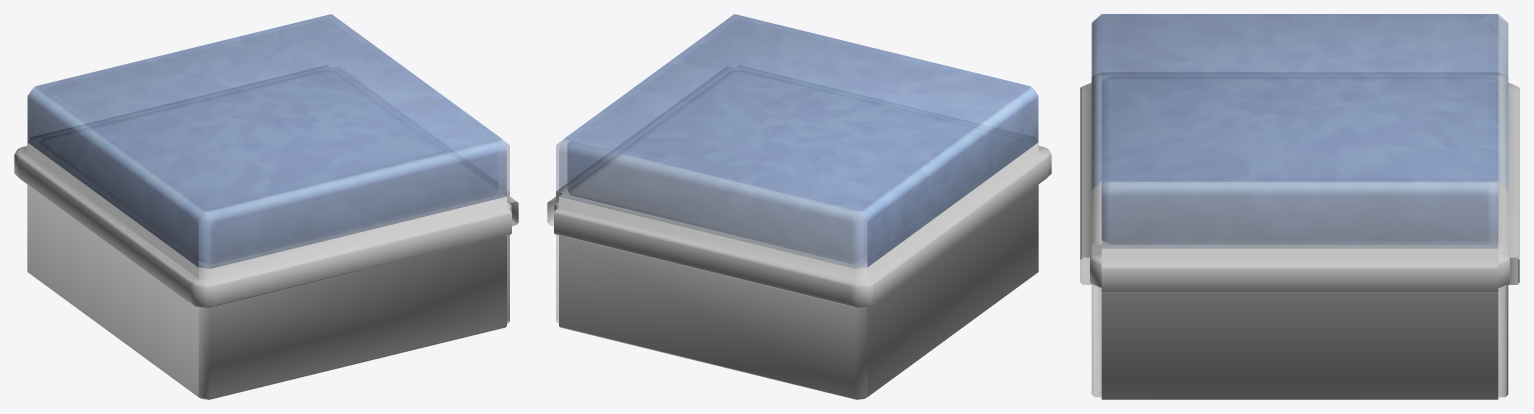
Rendered from LP_Showcases.fbx.
3 views of the same model, side by side, from view 1: azimuth 30°, elevation 25°; view 2: azimuth 150°, elevation 25°; view 3: azimuth 270°, elevation 25° (orthographic). The views are drawn at different scales.
Parts seen in each view (by area): view 1: Showcase_Angle, Showcase_U, Showcase_Full, Showcase_Simple, Showcase_Central; view 2: Showcase_Full, Showcase_U, Showcase_Angle, Showcase_Simple, Showcase_Central; view 3: Showcase_Central, Showcase_Full, Showcase_U, Showcase_Angle, Showcase_Simple.
Part boxes in pixels (x1,y1,x2,y2): Showcase_Angle: [25, 14, 511, 399]; Showcase_U: [14, 14, 511, 398]; Showcase_Full: [40, 19, 511, 263]; Showcase_Simple: [18, 15, 494, 398]; Showcase_Central: [21, 15, 518, 396]; Showcase_Full: [554, 19, 1025, 263]; Showcase_U: [554, 16, 1036, 399]; Showcase_Angle: [563, 14, 1051, 301]; Showcase_Simple: [565, 15, 1047, 398]; Showcase_Central: [547, 14, 1043, 396]; Showcase_Central: [1101, 14, 1498, 399]; Showcase_Full: [1090, 18, 1509, 288]; Showcase_U: [1080, 14, 1519, 397]; Showcase_Angle: [1080, 14, 1497, 321]; Showcase_Simple: [1102, 14, 1497, 181].
Bounding box in the file's own units: 111 × 60 × 111.
